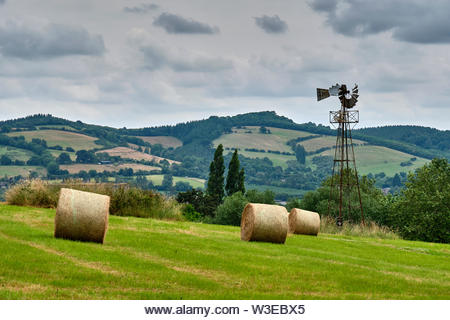faulty: (310, 77, 368, 185)
